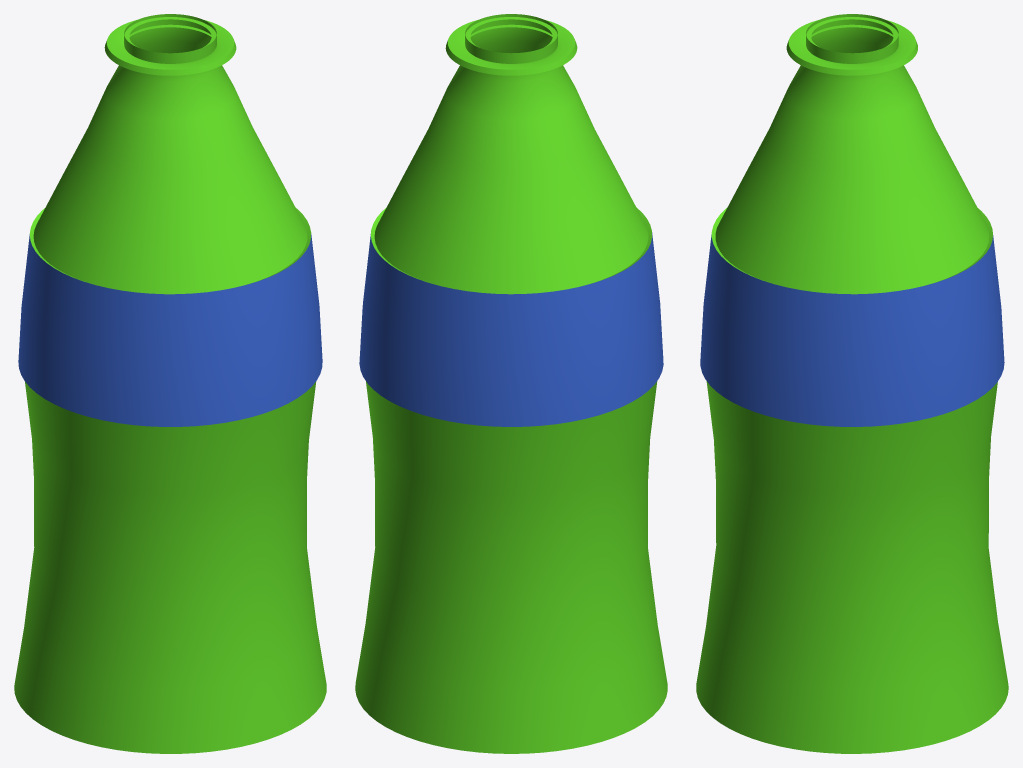
File: Coke_Bottle.fbx
3 views of the same model, side by side, from view 1: azimuth 30°, elevation 25°; view 2: azimuth 150°, elevation 25°; view 3: azimuth 270°, elevation 25° (orthographic).
Visible parts, largest first — view 1: Cylinder; view 2: Cylinder; view 3: Cylinder.
Boxes of the visible parts, x1,y1,x2,y2 form: Cylinder: [14, 14, 326, 753]; Cylinder: [355, 14, 667, 753]; Cylinder: [696, 14, 1008, 753].
Bounding box in the file's own units: 184 × 424 × 184.
